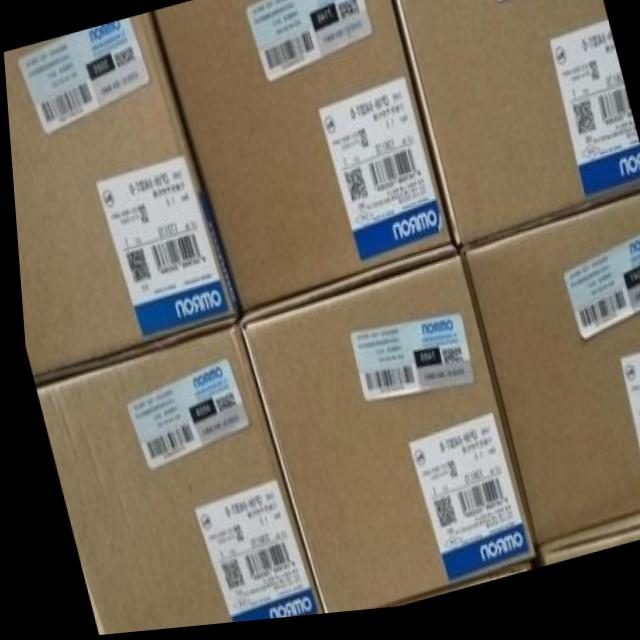box: (232, 250, 527, 619), (153, 0, 447, 318), (30, 325, 313, 636), (3, 14, 234, 388), (456, 204, 640, 555), (393, 0, 640, 258)
